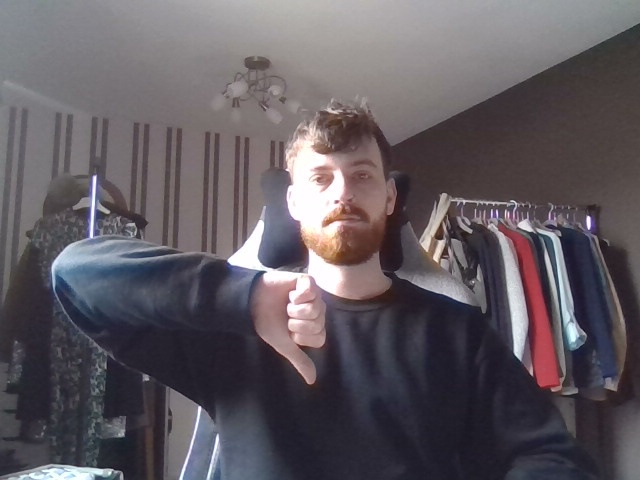Thumbs Down: (248, 250, 340, 398)
